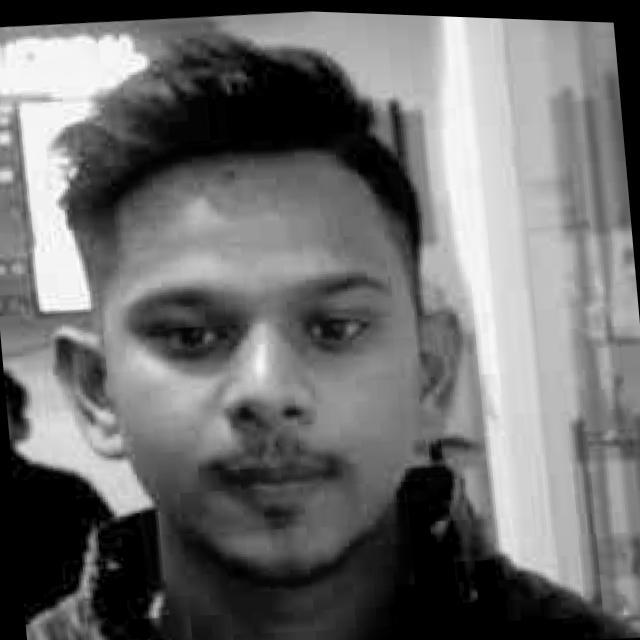Puffy Eyes - v3 Dark Circle: (142, 334, 244, 375)
